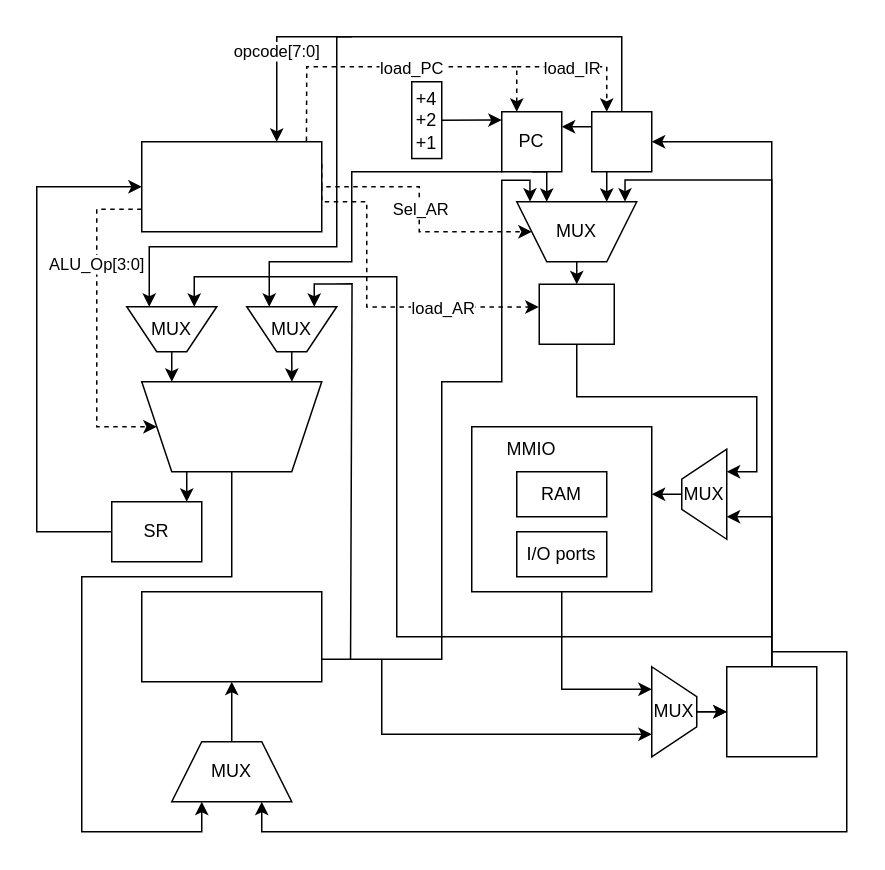
Some shapes in this 885 by 870 pixel diagram are drawn without their labels. Each missing label, with the centre of its shape:
ACC: the point at 231,636
ALU: the point at 231,426
AR: the point at 576,313
Control Unit: the point at 231,186
DR: the point at 771,711
IR: the point at 621,141
